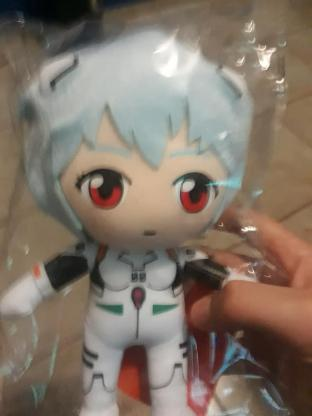rei-plush: (8, 25, 260, 416)
